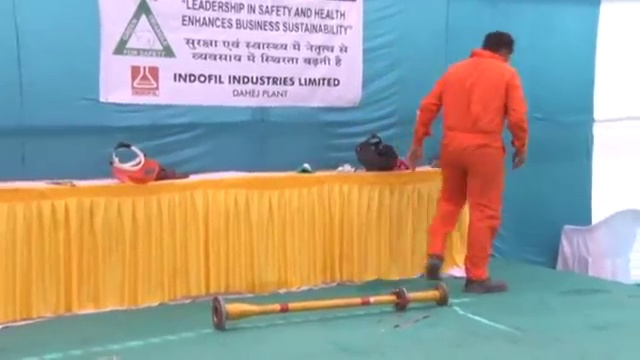helmet_off: (481, 30, 514, 62)
person: (401, 26, 532, 295)
